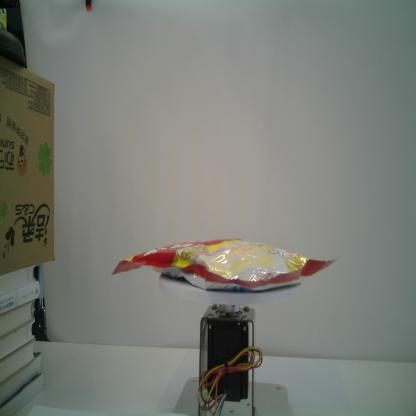Instant Drink: (109, 235, 340, 295)
